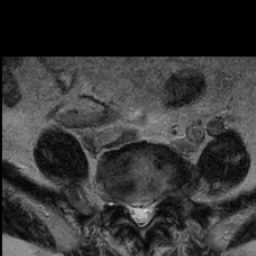CCS_normal: (137, 196, 146, 235)
LFS_stenosis: (156, 186, 167, 212)
LLS_normal: (146, 196, 156, 226)
RFS_stenosis: (118, 190, 129, 214)
RLS_normal: (129, 195, 137, 228)
